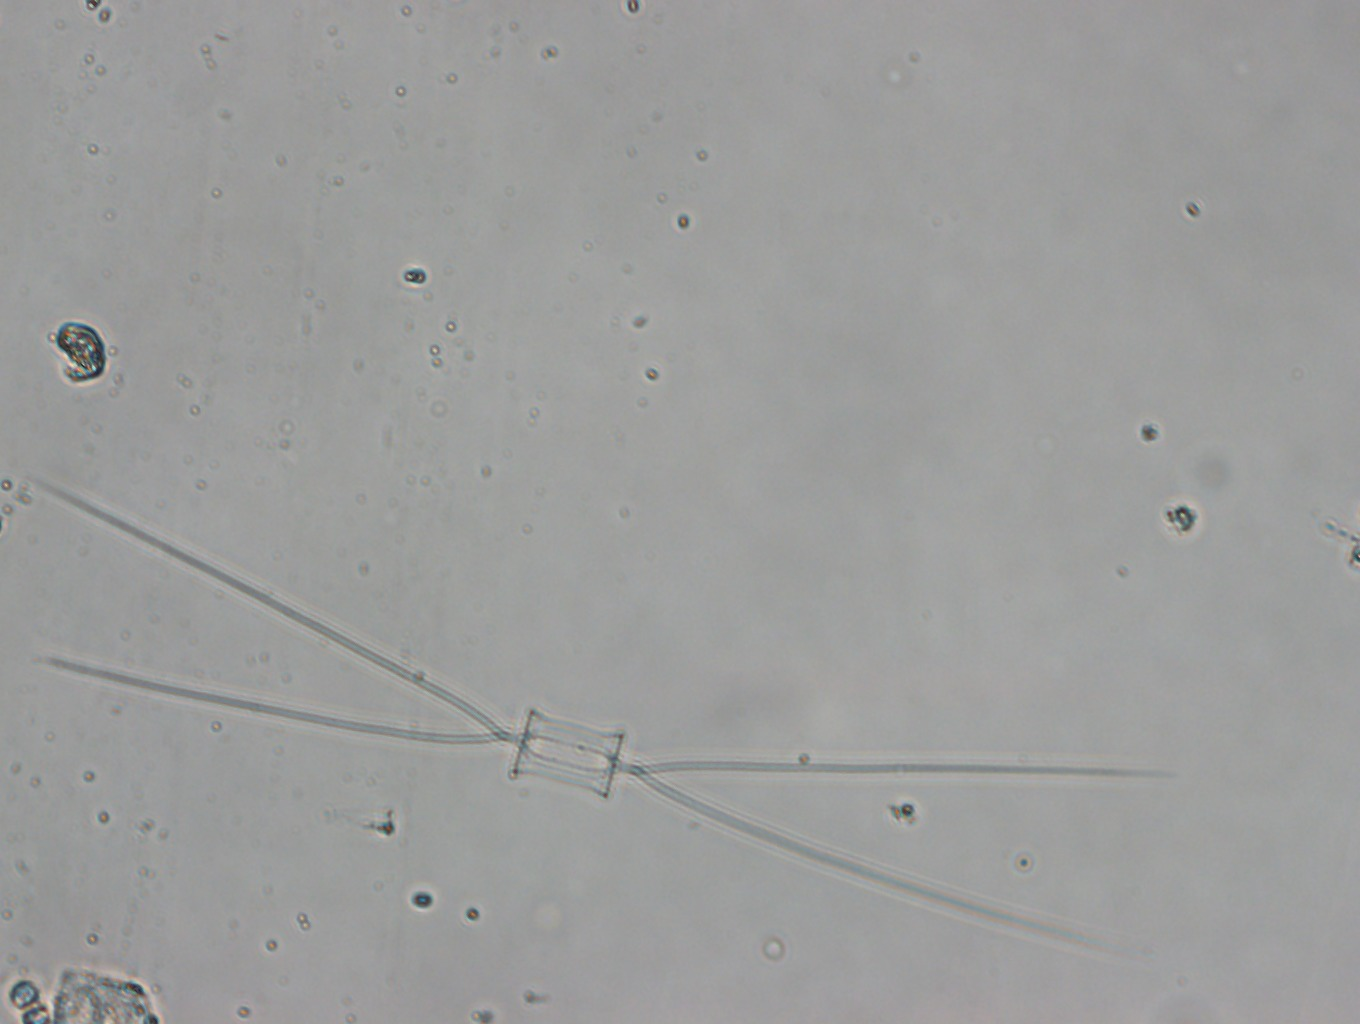chaetoceros: (35, 478, 1163, 959)
